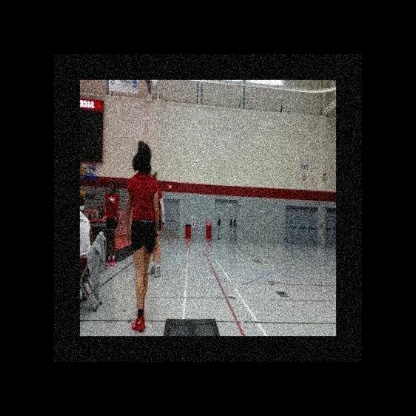lateral_flexion_left: (123, 138, 159, 333)
stance_width_narrow: (124, 172, 160, 332)
